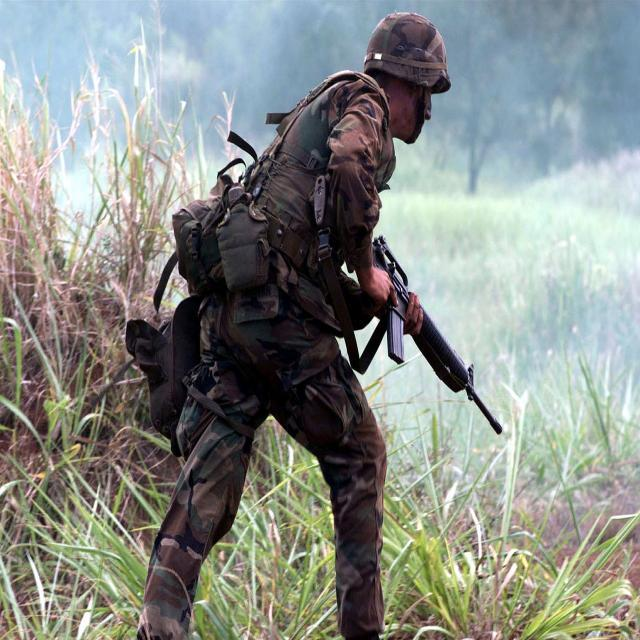Gun: (360, 241, 506, 434)
